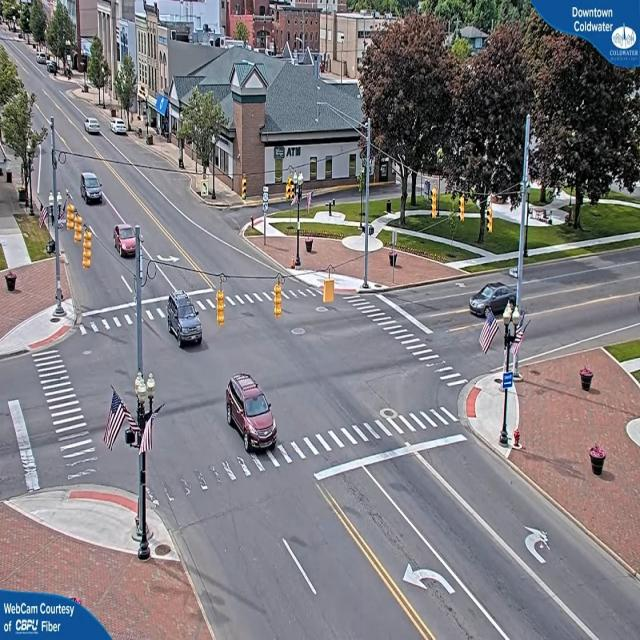car: (224, 371, 279, 453), (470, 282, 519, 320), (167, 295, 204, 345), (115, 222, 141, 258), (81, 173, 104, 206), (111, 120, 130, 137), (85, 118, 101, 135)
